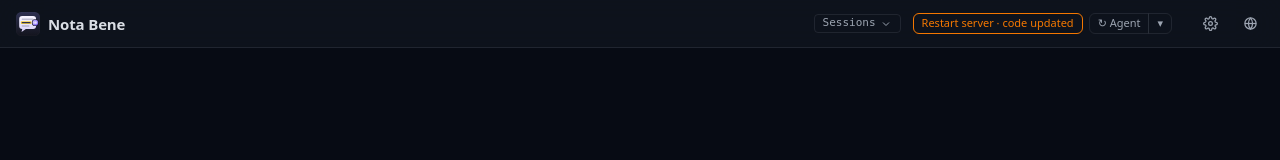
Test: the "code updated" button › is shown when supervised and changed; a click POSTs /restart-server; disabled while switching
Click the button "Restart server · code updated".
click(998, 24)  # box [913,13,1083,34]
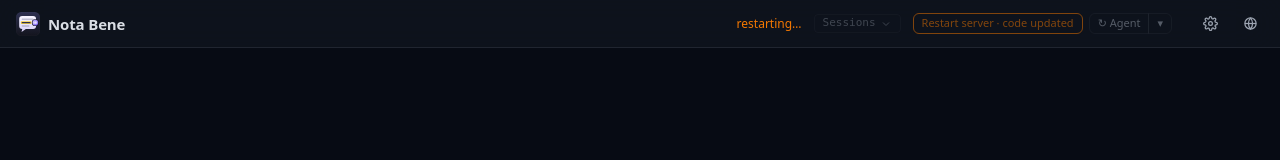
Now the button "Restart server · code updated" is disabled, box [913,13,1083,34]
